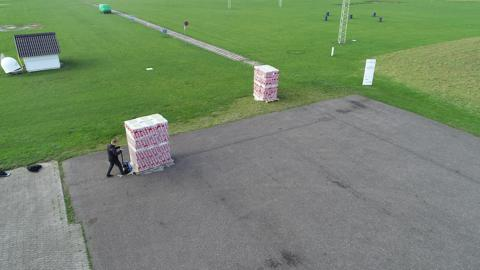RockwoolPallet: (125, 115, 173, 169)
